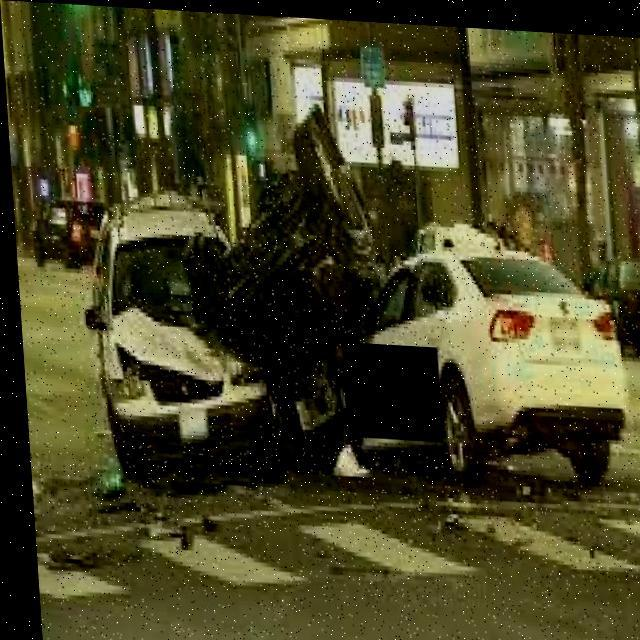multiple_accident: (73, 115, 625, 513)
